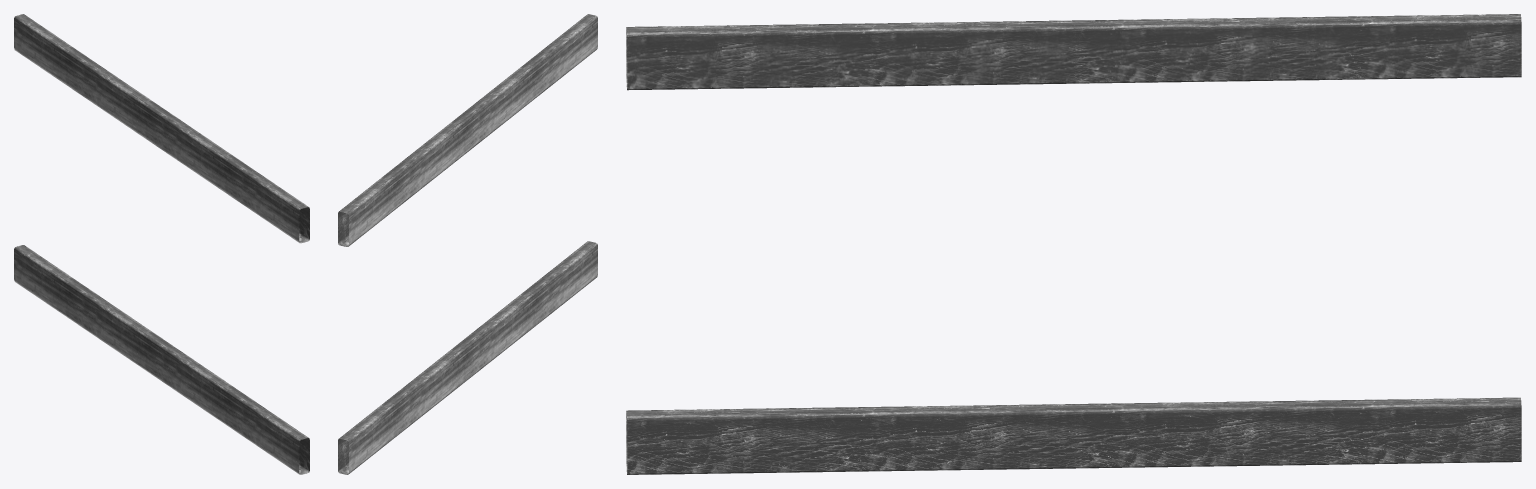
The model's file is SM_Fence_E3_Splines_21.fbx.
3 views of the same model, side by side, from view 1: azimuth 30°, elevation 25°; view 2: azimuth 150°, elevation 25°; view 3: azimuth 270°, elevation 25° (orthographic). The views are drawn at different scales.
Visible parts, largest first — view 1: SM_Fence_E3_Splines_21; view 2: SM_Fence_E3_Splines_21; view 3: SM_Fence_E3_Splines_21.
Part boxes in pixels (x1,y1,x2,y2): SM_Fence_E3_Splines_21: (14, 14, 309, 474); SM_Fence_E3_Splines_21: (338, 14, 597, 474); SM_Fence_E3_Splines_21: (626, 14, 1521, 474).
Bounding box in the file's own units: 6.5 × 113 × 61.66.
Materials: 1 (1 with a texture image).
